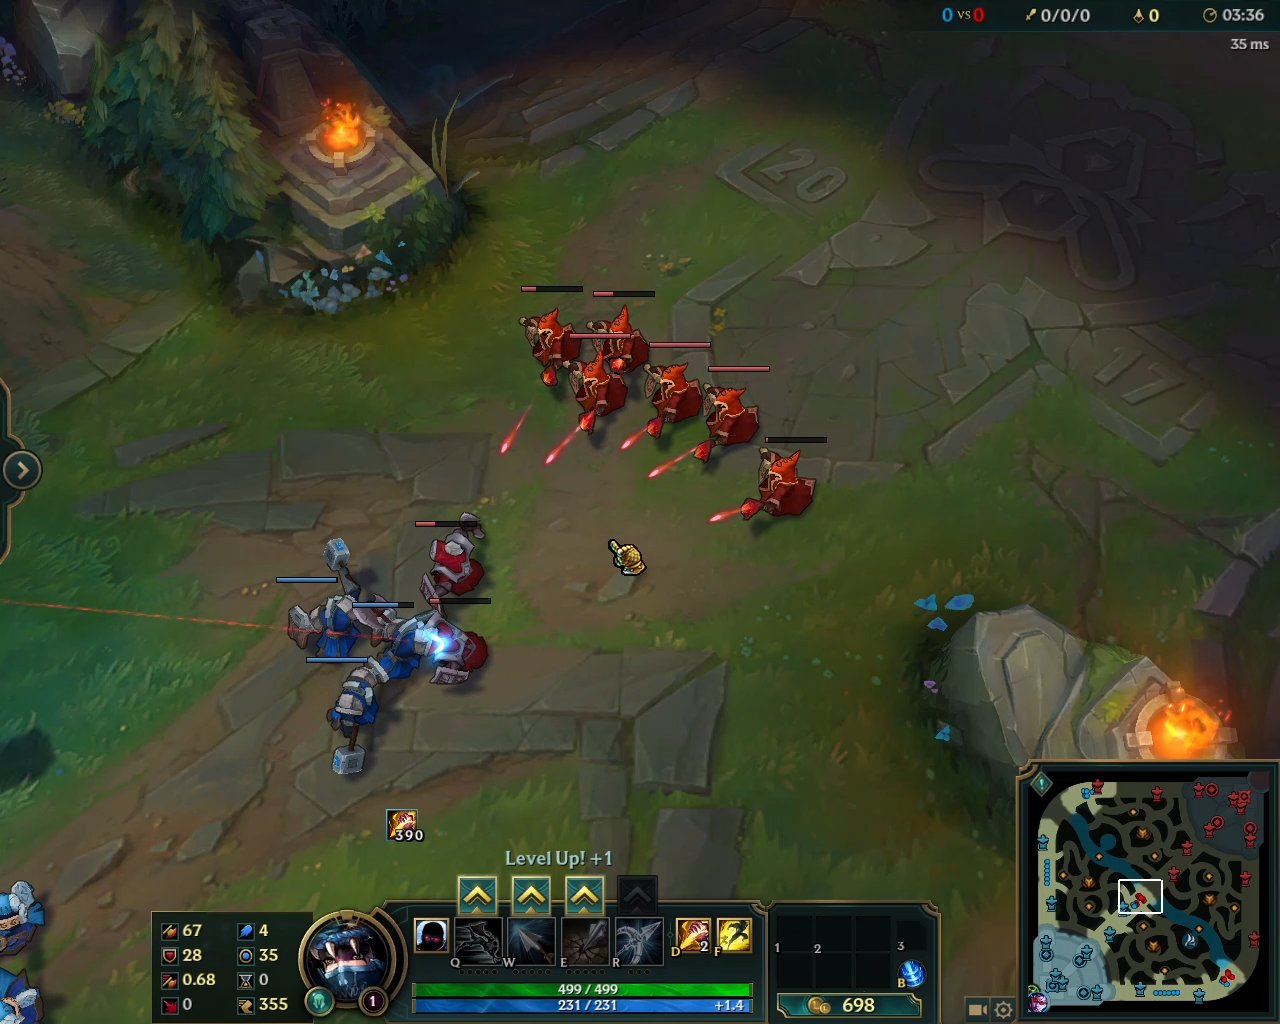EnemyMinion: (411, 510, 484, 614), (739, 436, 825, 522), (639, 339, 713, 439), (563, 333, 632, 437), (695, 367, 767, 463), (517, 284, 585, 385), (422, 596, 494, 686), (592, 290, 656, 376)
